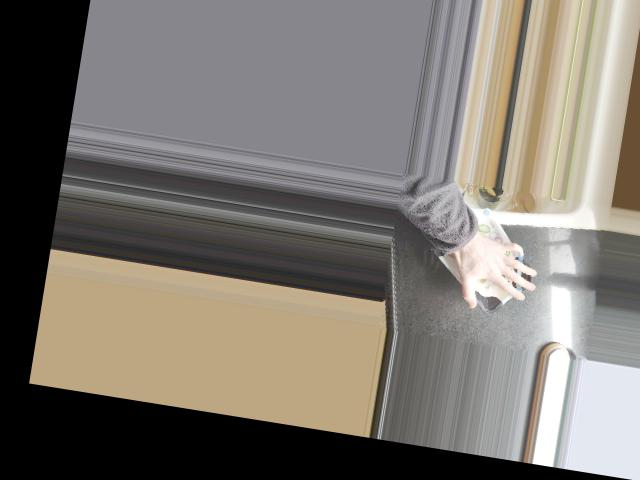cheese: (423, 196, 546, 320)
